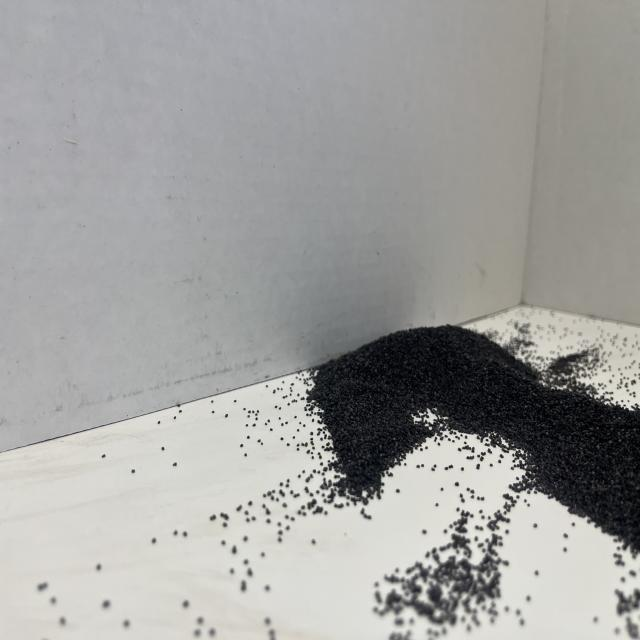Poppy Seeds: (304, 313, 640, 529)
